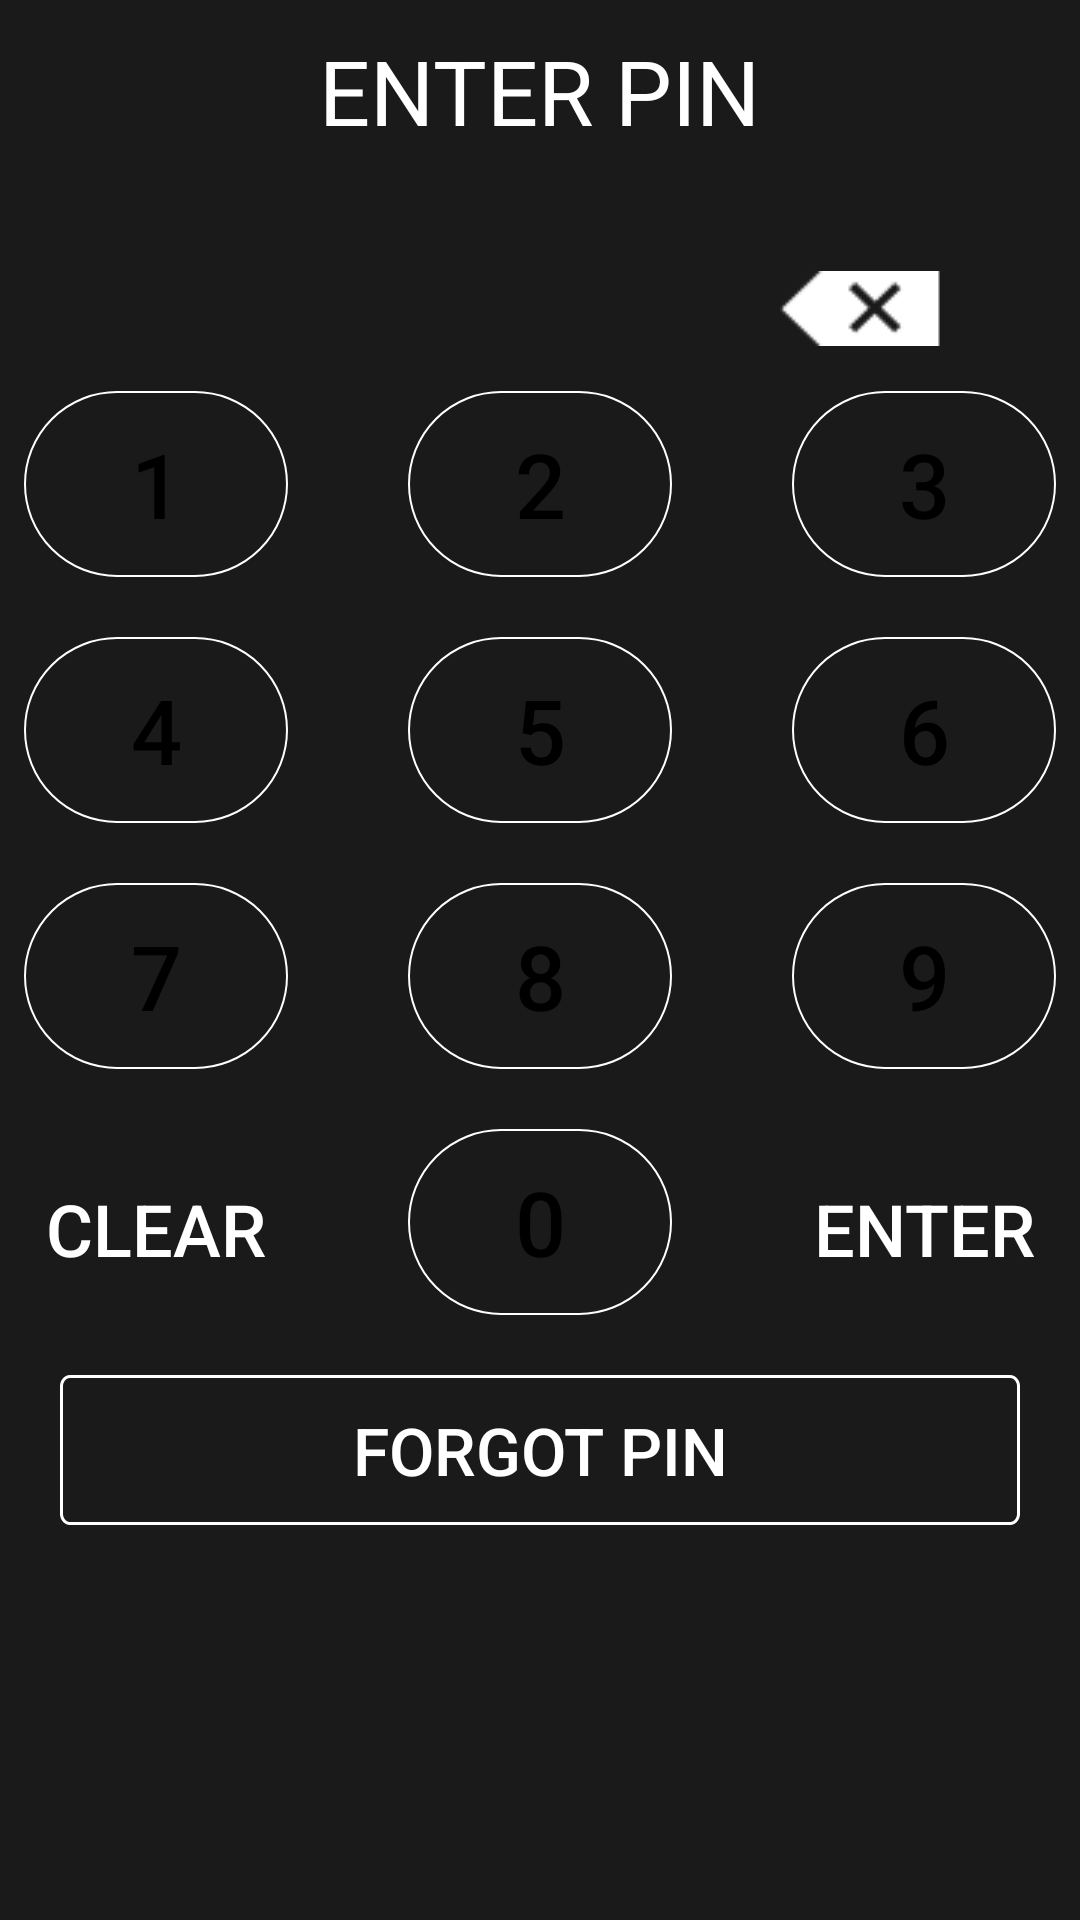

Named icons in this screenshot (1080 x 1920) and their centers, (x=x, y=y):
passcode clear: (x=860, y=308)
